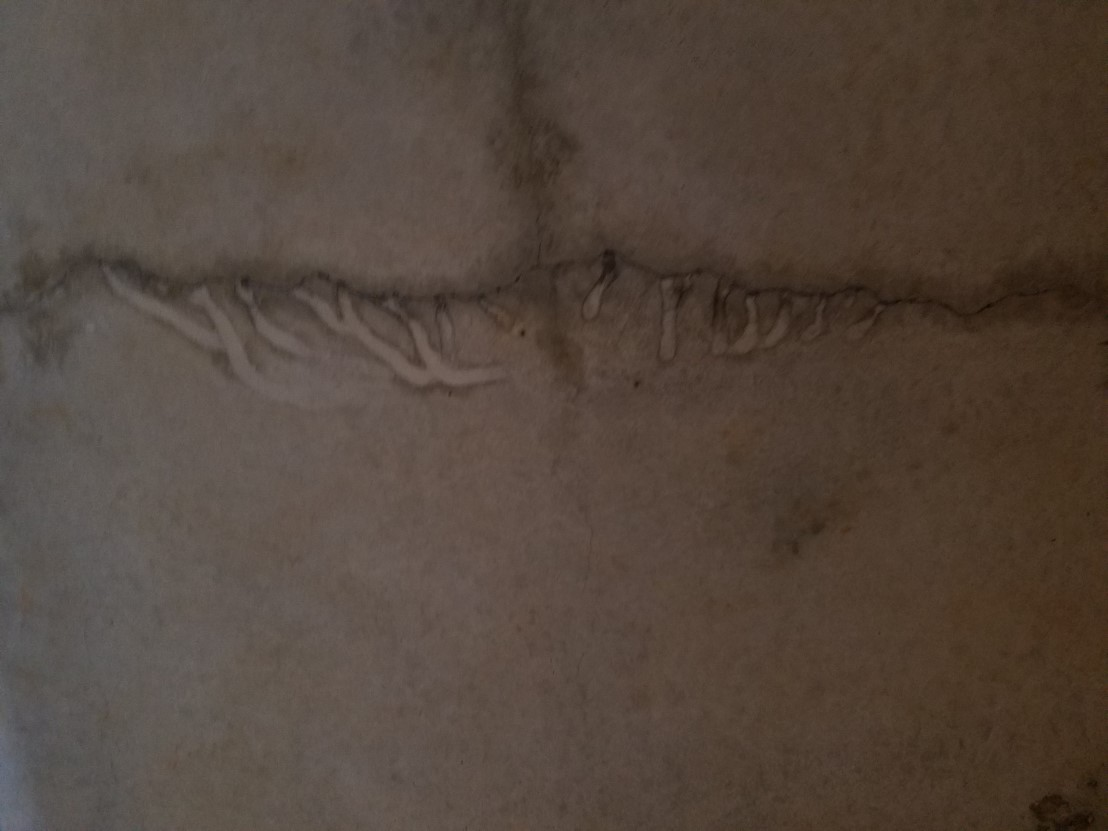Crack: (0, 234, 1108, 329), (499, 312, 612, 764), (467, 0, 570, 296), (69, 665, 168, 831)
